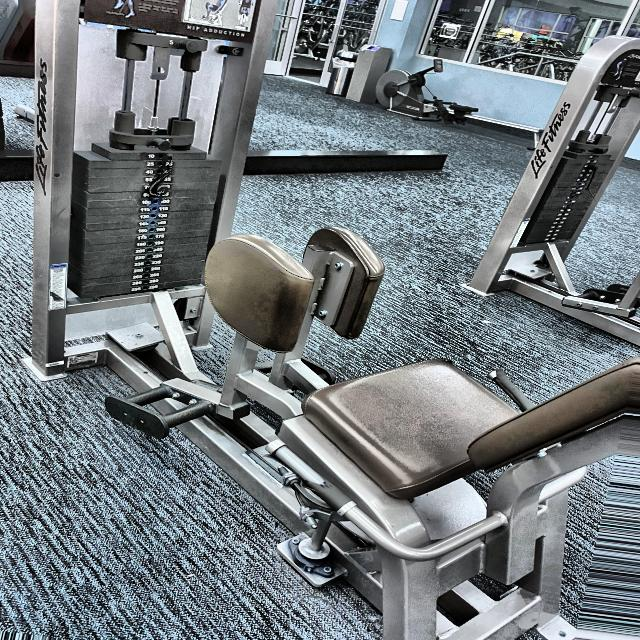hip_adduction_machine: (214, 171, 586, 618), (212, 210, 402, 446), (85, 0, 262, 38)
